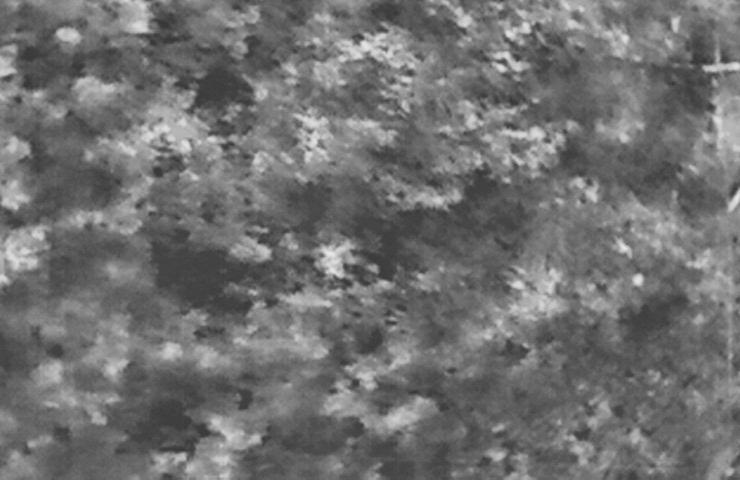landmines: (317, 240, 355, 278)
